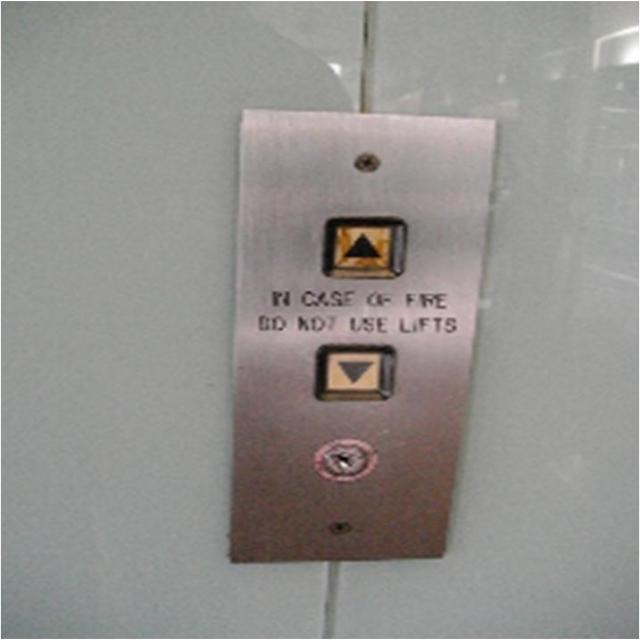down: (312, 341, 396, 403)
keyhole: (308, 434, 379, 482)
up: (318, 214, 407, 281)
